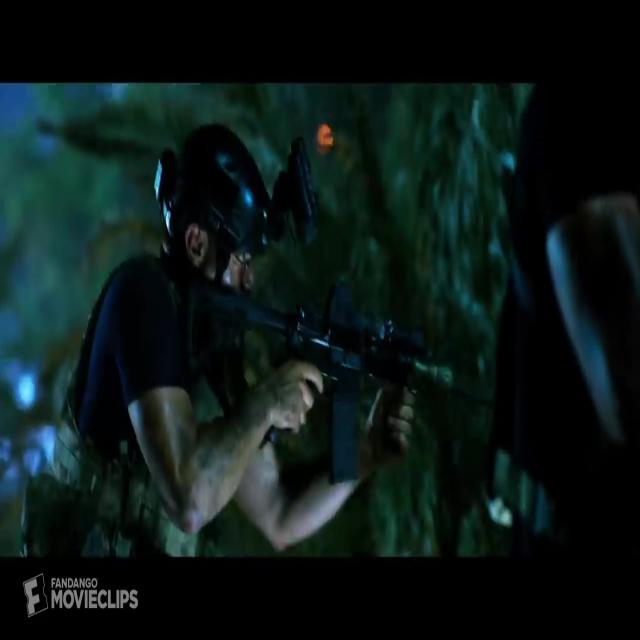Weapon: (174, 253, 504, 490)
